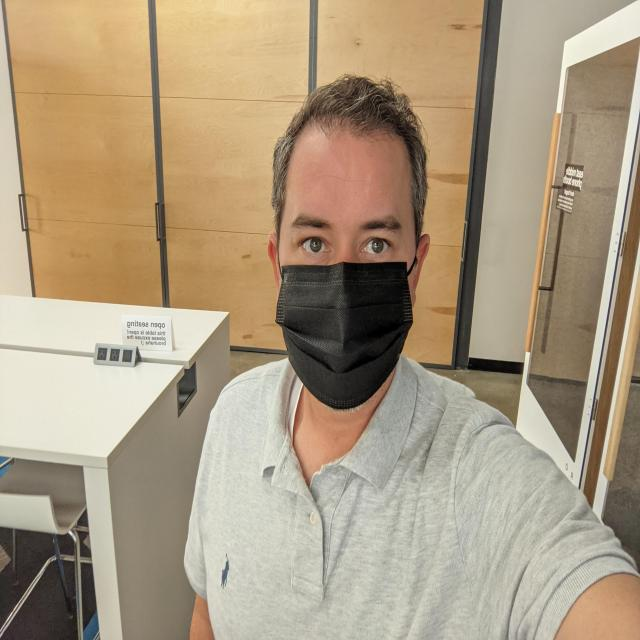face: (274, 154, 424, 414)
